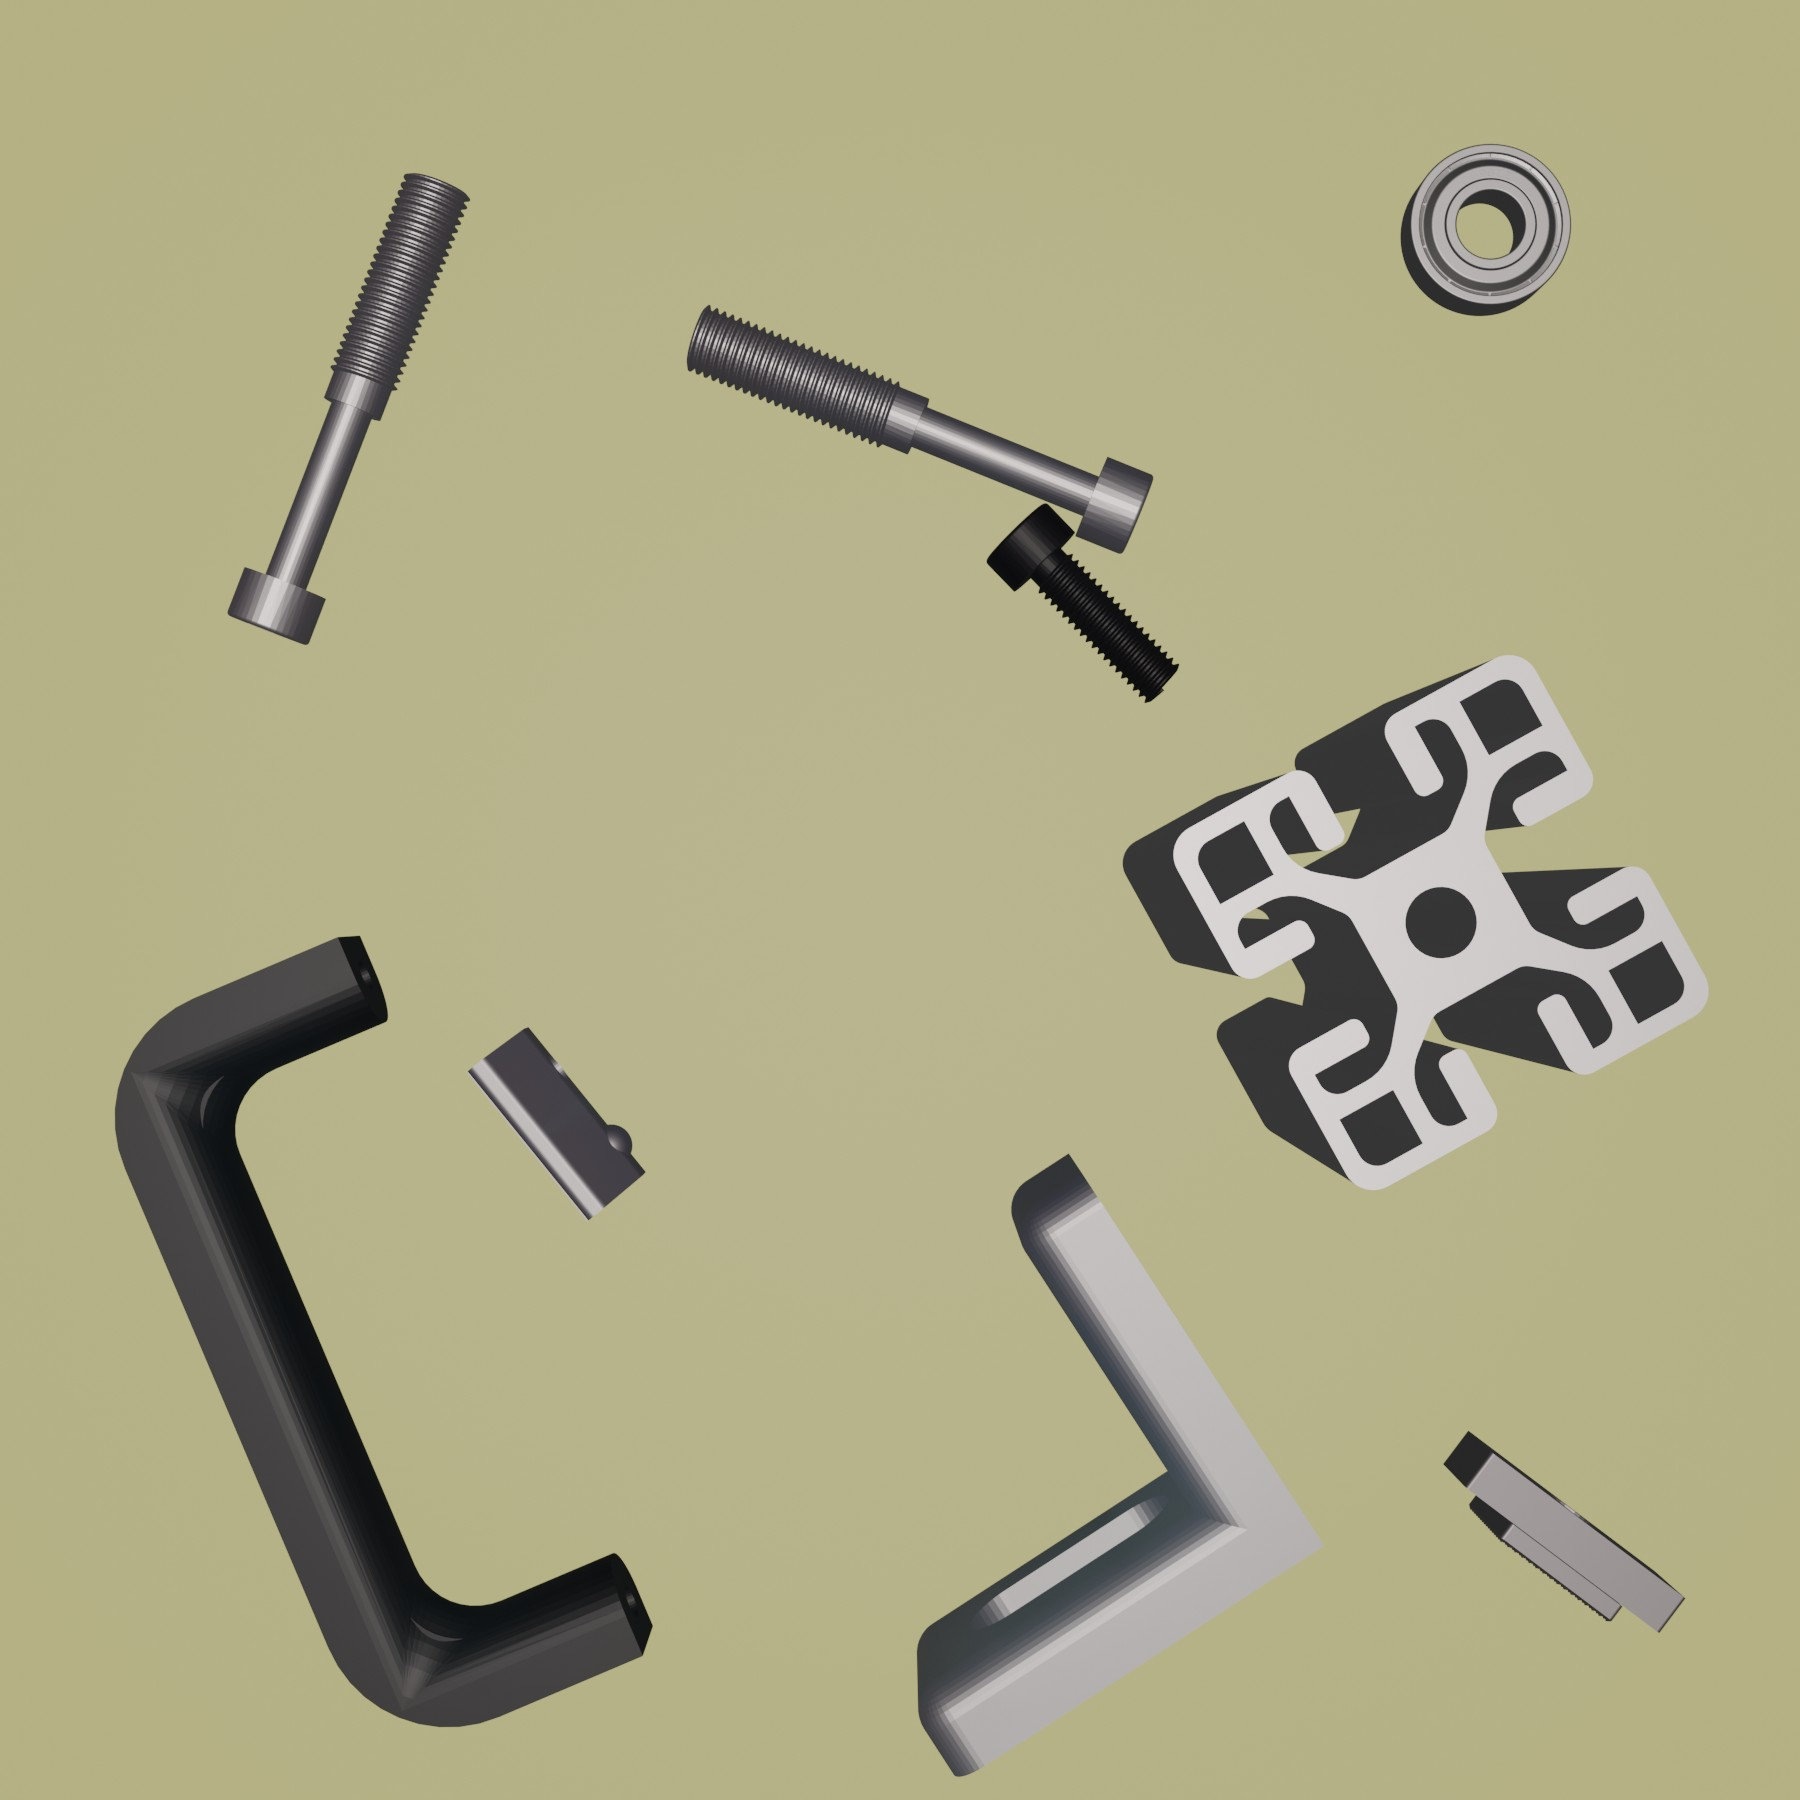Aluminium Extension: (1118, 649, 1713, 1197)
Ball Bearing: (1398, 138, 1576, 320)
Multiwinkel: (913, 1149, 1329, 1780)
Pull Handle: (110, 931, 654, 1727)
Shoulder Socket Head Cap Screw: (686, 298, 1155, 557), (223, 166, 470, 649)
Socket Head Cap Screw: (982, 499, 1180, 707)
T Nut Square: (1442, 1431, 1688, 1642)
T Spring Nut: (462, 1024, 649, 1221)
